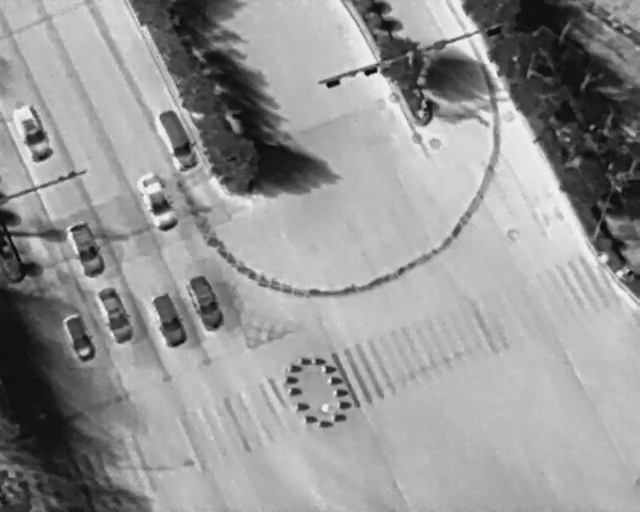Car: (150, 104, 201, 176), (132, 167, 182, 235), (92, 283, 138, 347), (9, 102, 55, 165), (62, 217, 108, 280), (183, 271, 227, 334), (145, 289, 190, 350), (58, 310, 99, 366)
